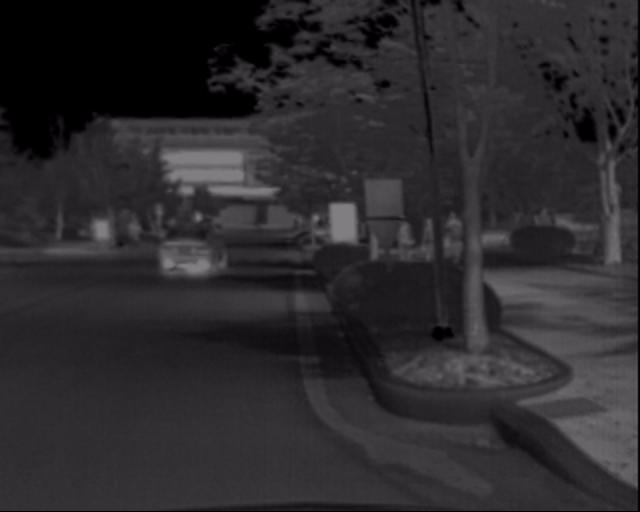person: (441, 207, 467, 271), (417, 213, 441, 264)
